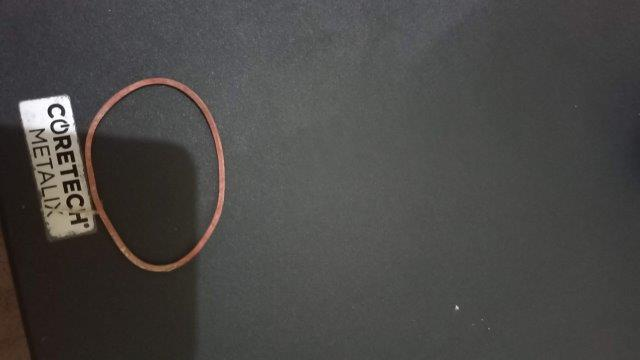karet: (85, 78, 225, 272)
